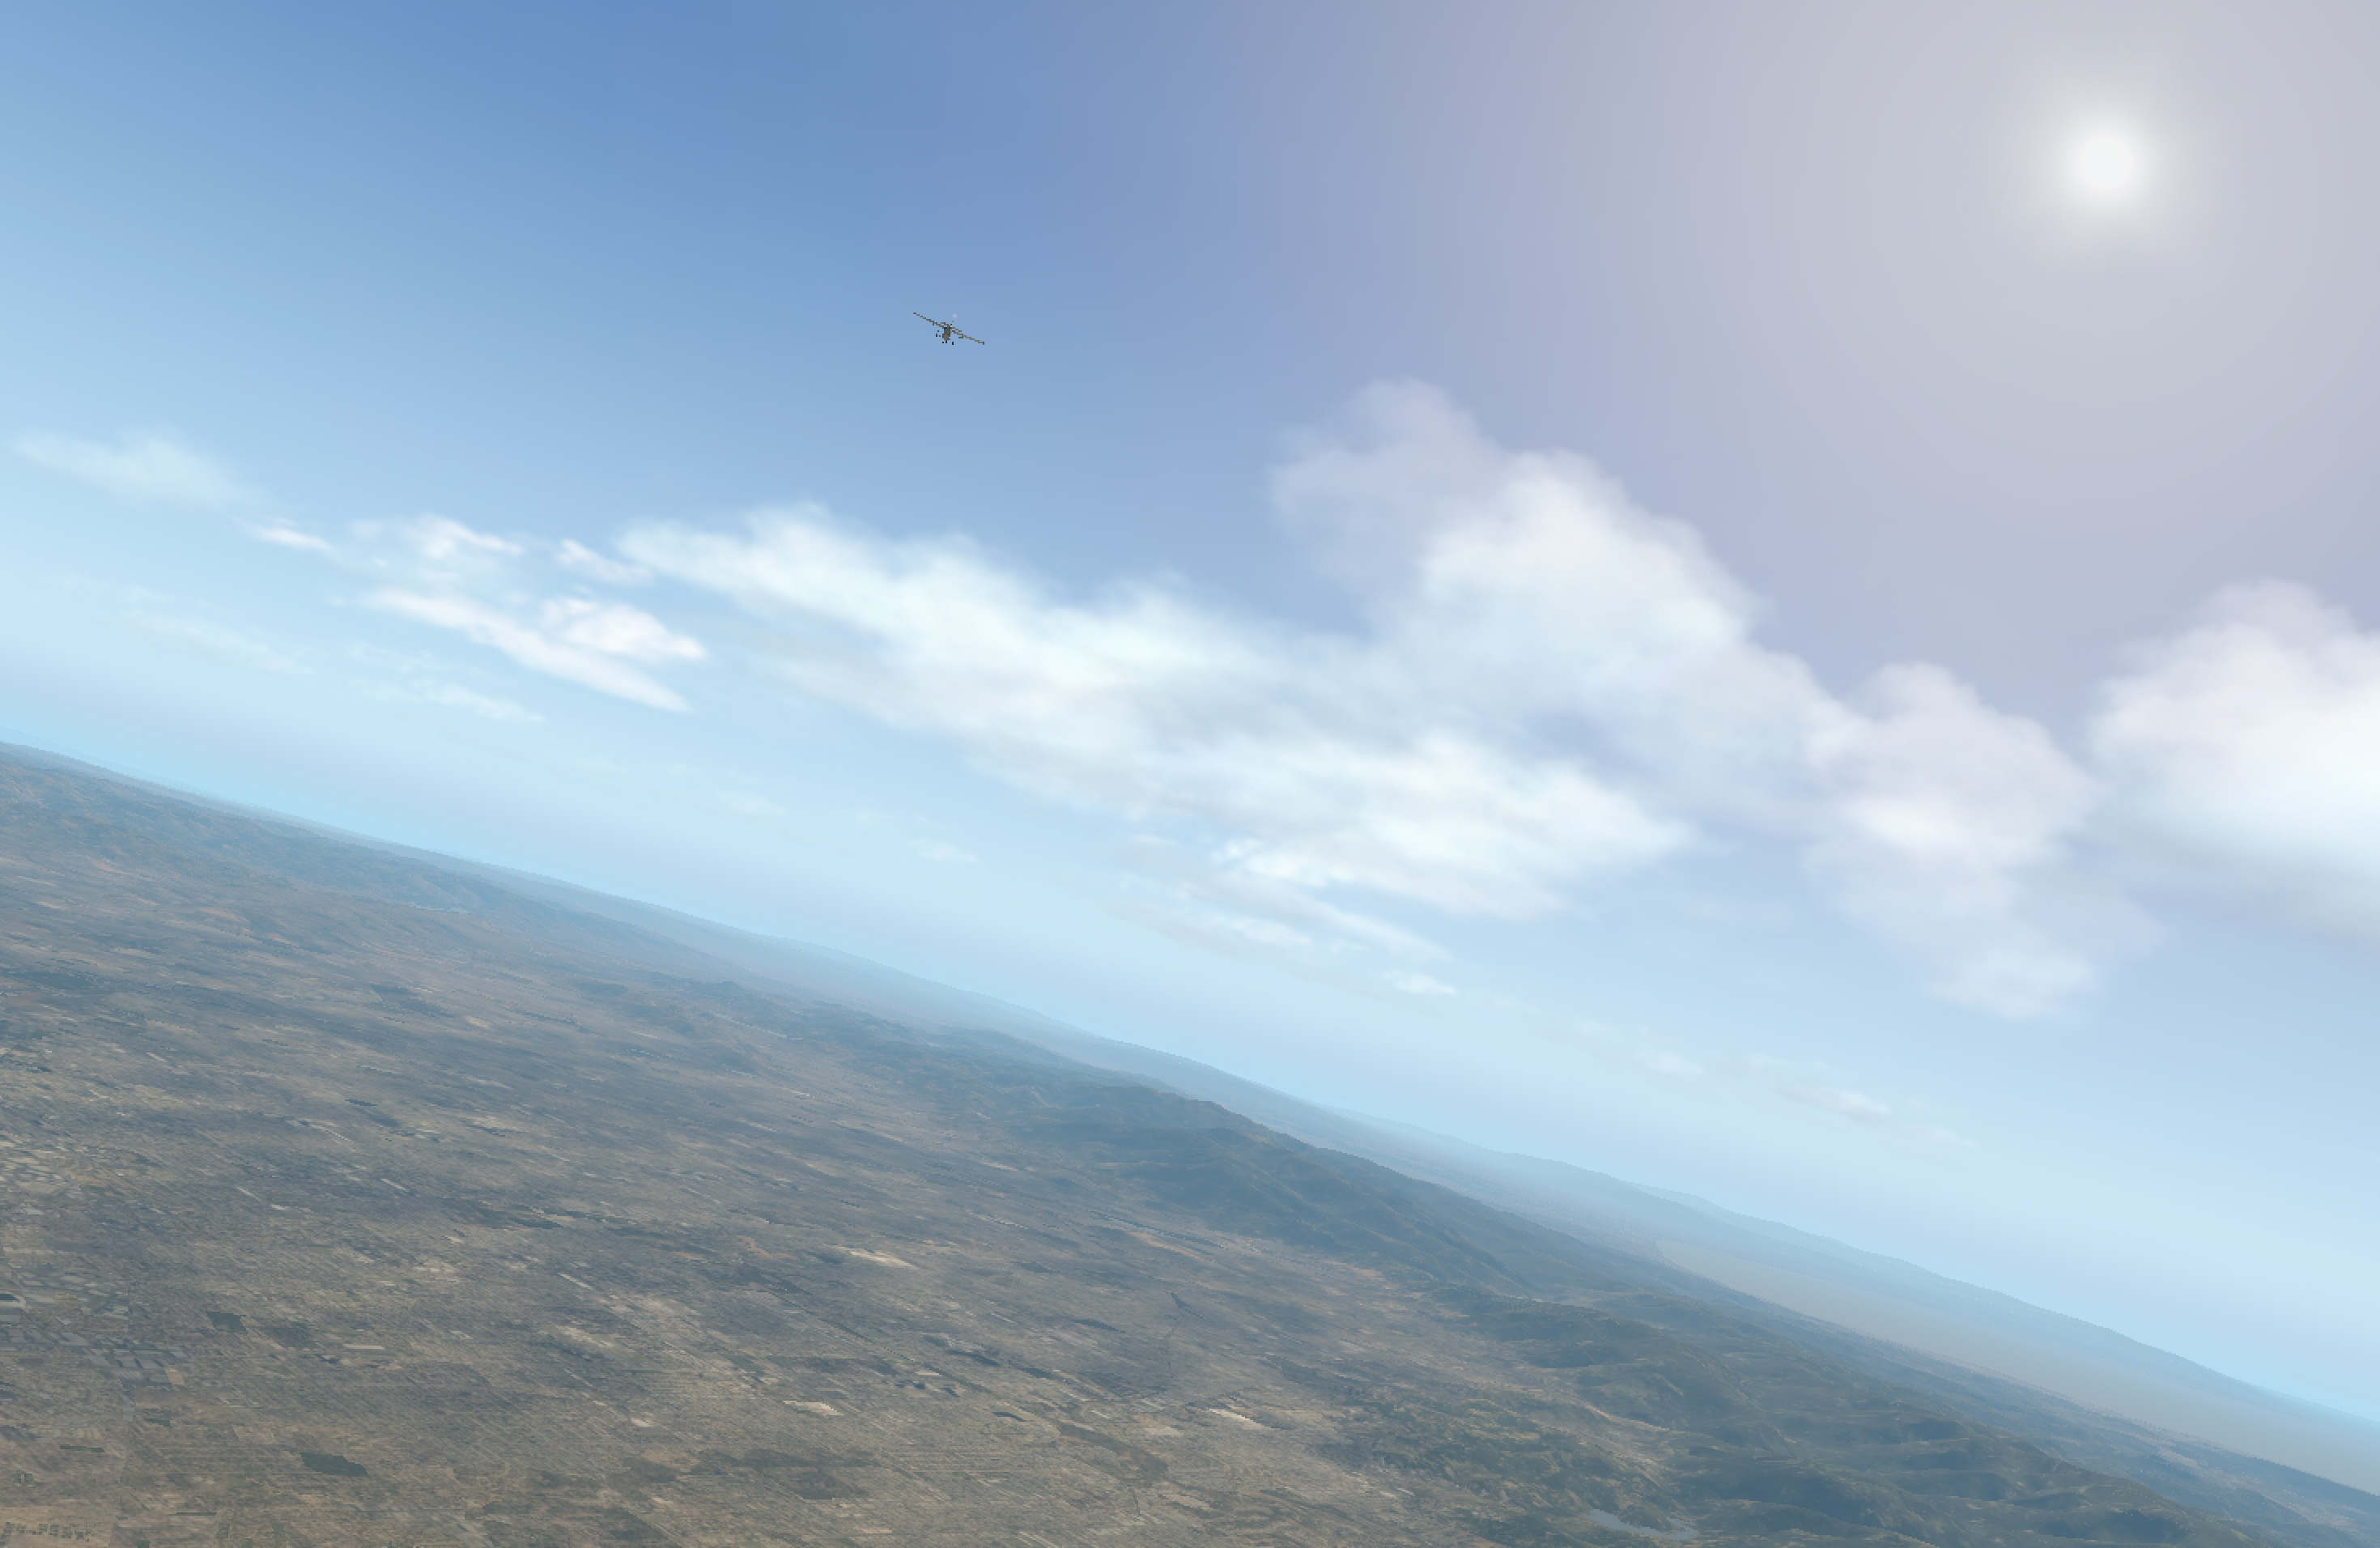aircraft: (921, 323, 973, 344)
